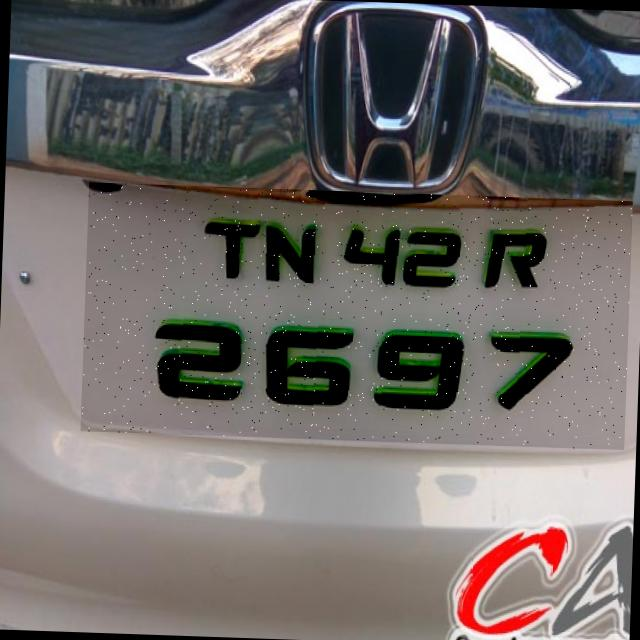Plate: (81, 183, 633, 451)
